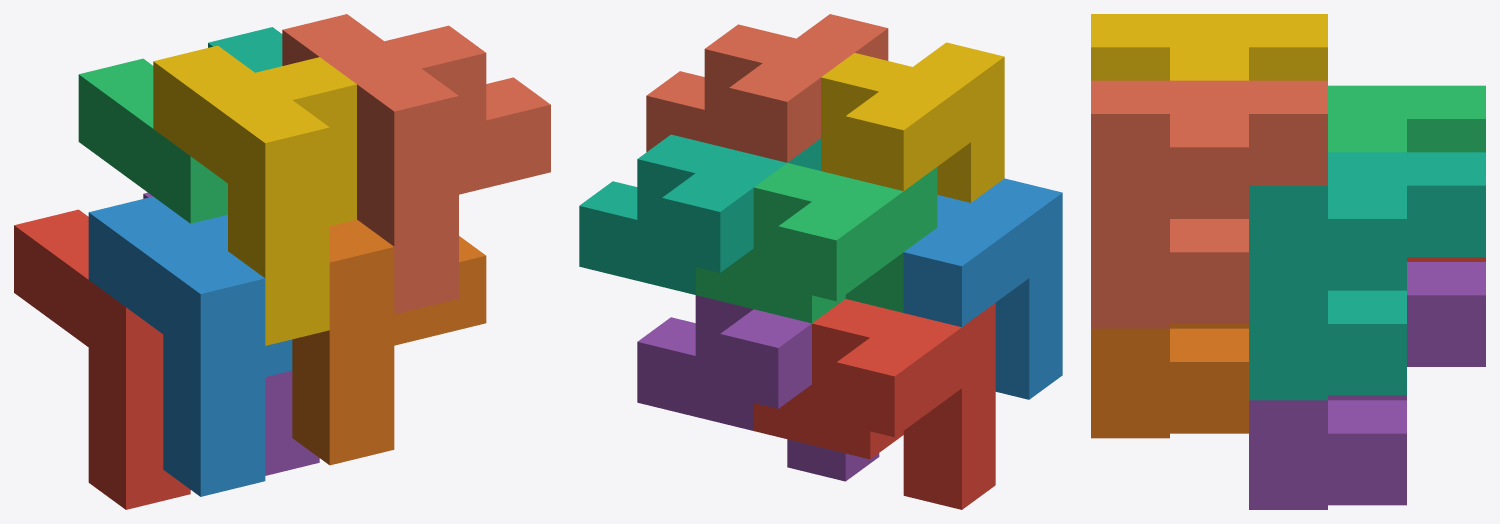
File: tiling.obj
3 renders of one model, left to right at view 1: azimuth 30°, elevation 25°; view 2: azimuth 150°, elevation 25°; view 3: azimuth 270°, elevation 25°, orthographic. The views are drawn at different scales.
Parts seen in each view (by area): view 1: copy_1_domain_8, copy_1_domain_4, copy_1_domain_2, copy_1_domain_6, copy_1_domain_1, copy_1_domain_3, copy_1_domain_5, copy_1_domain_7; view 2: copy_1_domain_1, copy_1_domain_3, copy_1_domain_4, copy_1_domain_2, copy_1_domain_7, copy_1_domain_8, copy_1_domain_5; view 3: copy_1_domain_8, copy_1_domain_7, copy_1_domain_5, copy_1_domain_6, copy_1_domain_4, copy_1_domain_3.
Part boxes in pixels (<box>): copy_1_domain_8: <box>282,14,550,314</box>; copy_1_domain_4: <box>153,45,356,345</box>; copy_1_domain_2: <box>88,196,292,496</box>; copy_1_domain_6: <box>292,219,486,465</box>; copy_1_domain_1: <box>14,209,190,509</box>; copy_1_domain_3: <box>78,58,227,223</box>; copy_1_domain_5: <box>143,192,319,475</box>; copy_1_domain_7: <box>208,27,282,72</box>; copy_1_domain_1: <box>753,299,995,509</box>; copy_1_domain_3: <box>695,163,937,323</box>; copy_1_domain_4: <box>821,42,1004,202</box>; copy_1_domain_2: <box>903,178,1062,399</box>; copy_1_domain_7: <box>579,134,820,294</box>; copy_1_domain_8: <box>646,14,888,162</box>; copy_1_domain_5: <box>637,295,879,481</box>; copy_1_domain_8: <box>1091,80,1327,328</box>; copy_1_domain_7: <box>1249,152,1485,400</box>; copy_1_domain_5: <box>1249,262,1485,509</box>; copy_1_domain_6: <box>1091,324,1248,438</box>; copy_1_domain_4: <box>1091,14,1327,80</box>; copy_1_domain_3: <box>1328,85,1485,152</box>.
Size of the model in its own units: 6 by 6 by 5.
